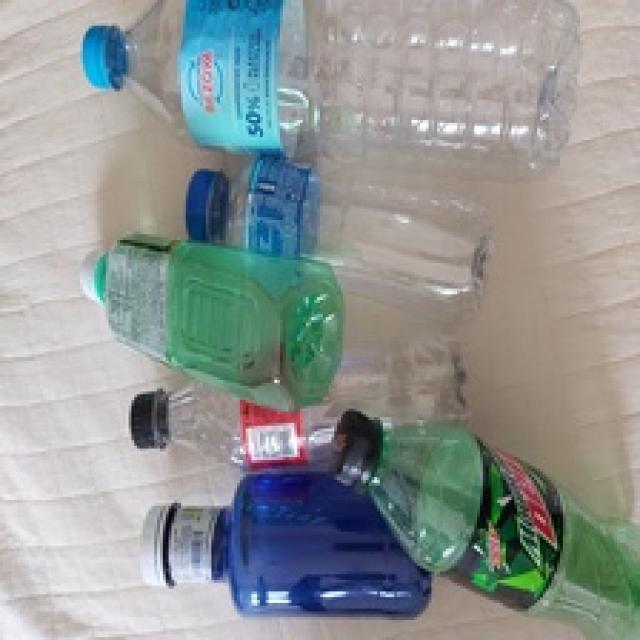Plastic: (85, 0, 581, 171), (330, 408, 640, 638), (81, 232, 348, 412), (185, 151, 492, 304), (146, 468, 436, 619), (128, 381, 378, 478)
